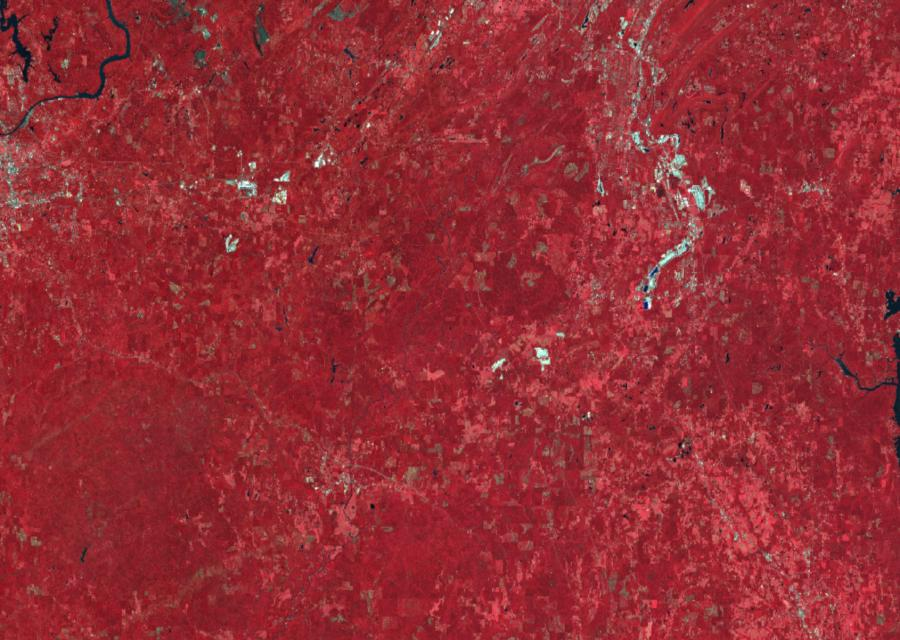Potential Lime Manufacturing Facility: (642, 237, 692, 311), (689, 184, 706, 211), (669, 154, 686, 178)
